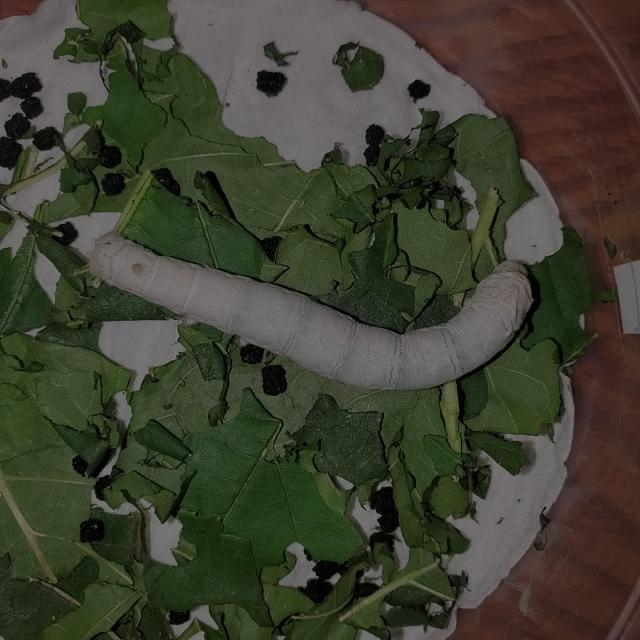Healthy: (80, 208, 548, 422)
